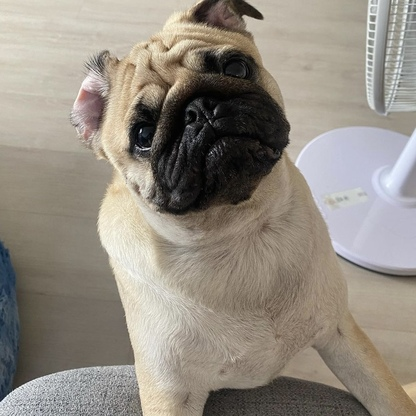Pug: (65, 1, 416, 416)
